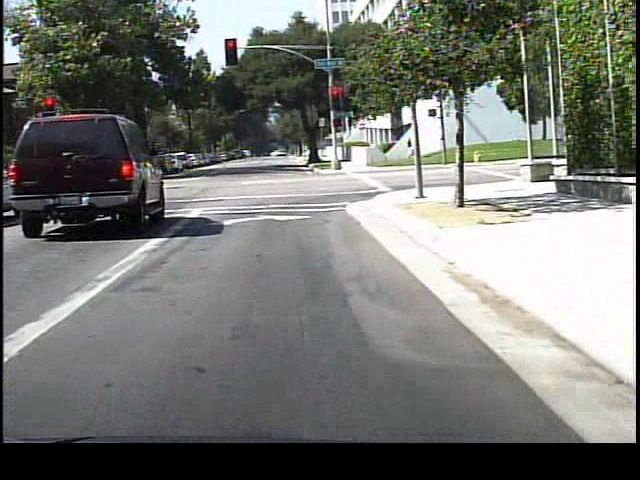person: (403, 127, 424, 167)
